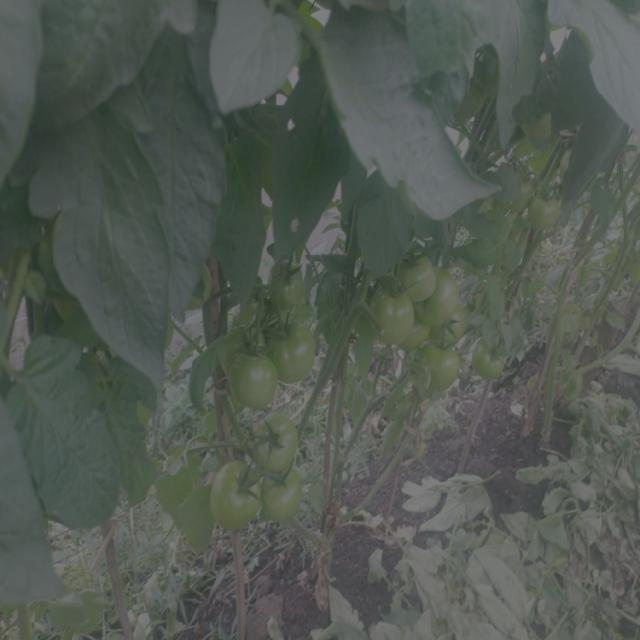tomato: (376, 253, 437, 323), (206, 462, 256, 533), (235, 351, 275, 404), (279, 327, 318, 380), (265, 472, 305, 523), (269, 262, 309, 310), (252, 417, 297, 459), (424, 346, 464, 390), (441, 311, 474, 344), (535, 195, 570, 226), (389, 325, 434, 349), (476, 345, 505, 379), (526, 117, 558, 143), (443, 271, 461, 304), (517, 181, 536, 210)
